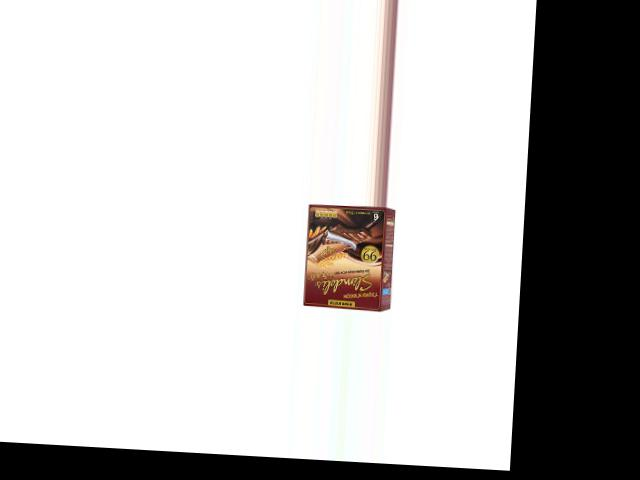chocolate: (293, 201, 401, 313)
